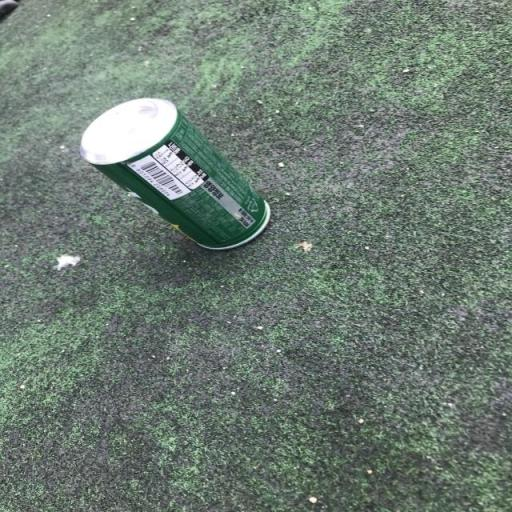metal: (62, 64, 292, 274)
